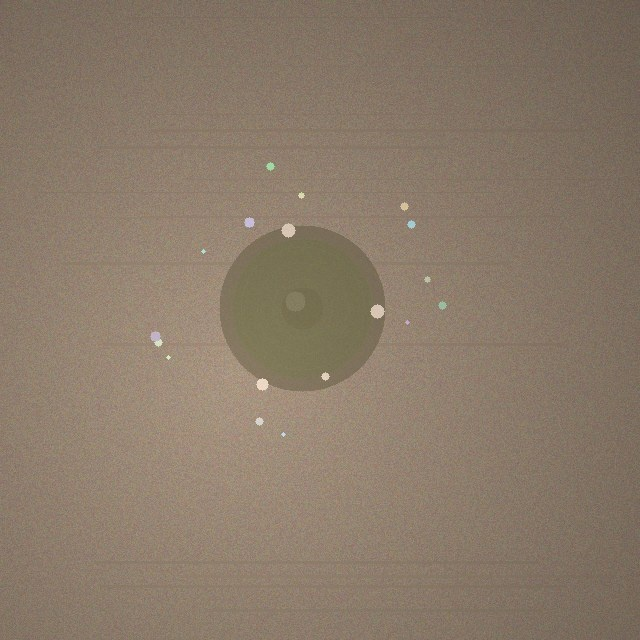overburn: (219, 225, 385, 391)
